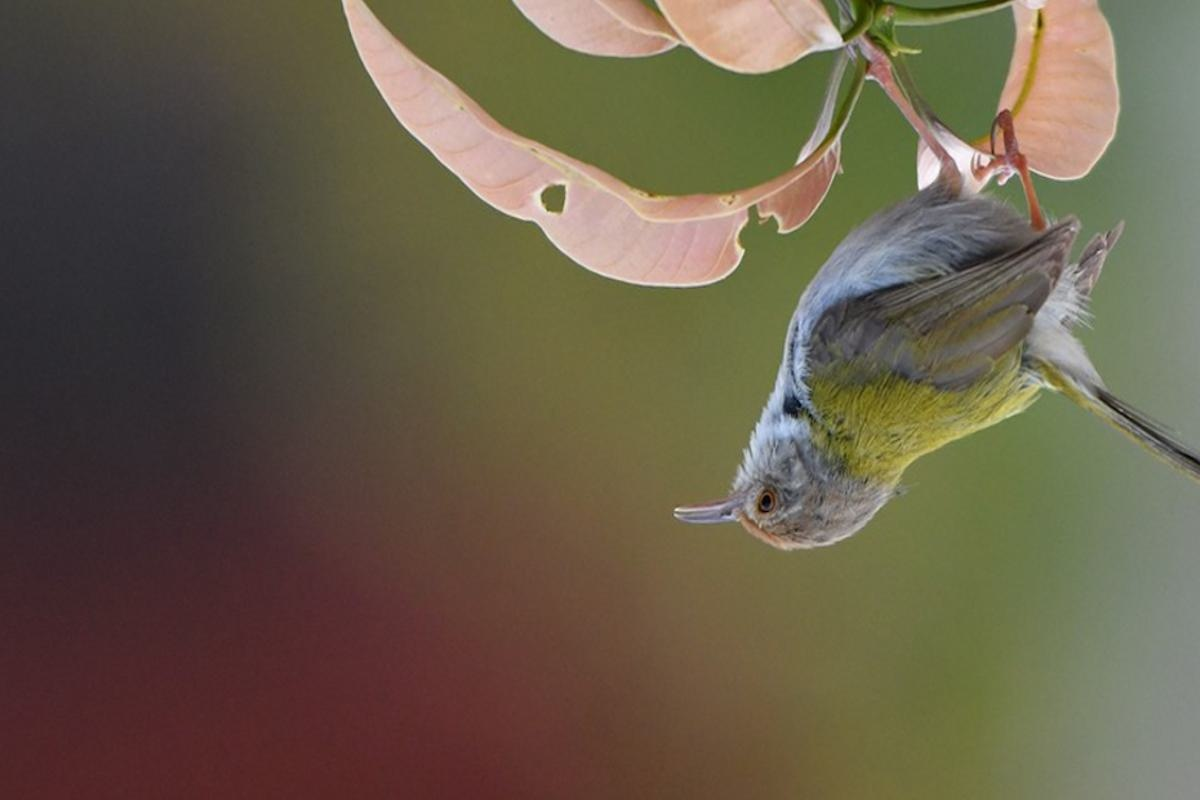tailorbird: (699, 153, 1131, 595)
